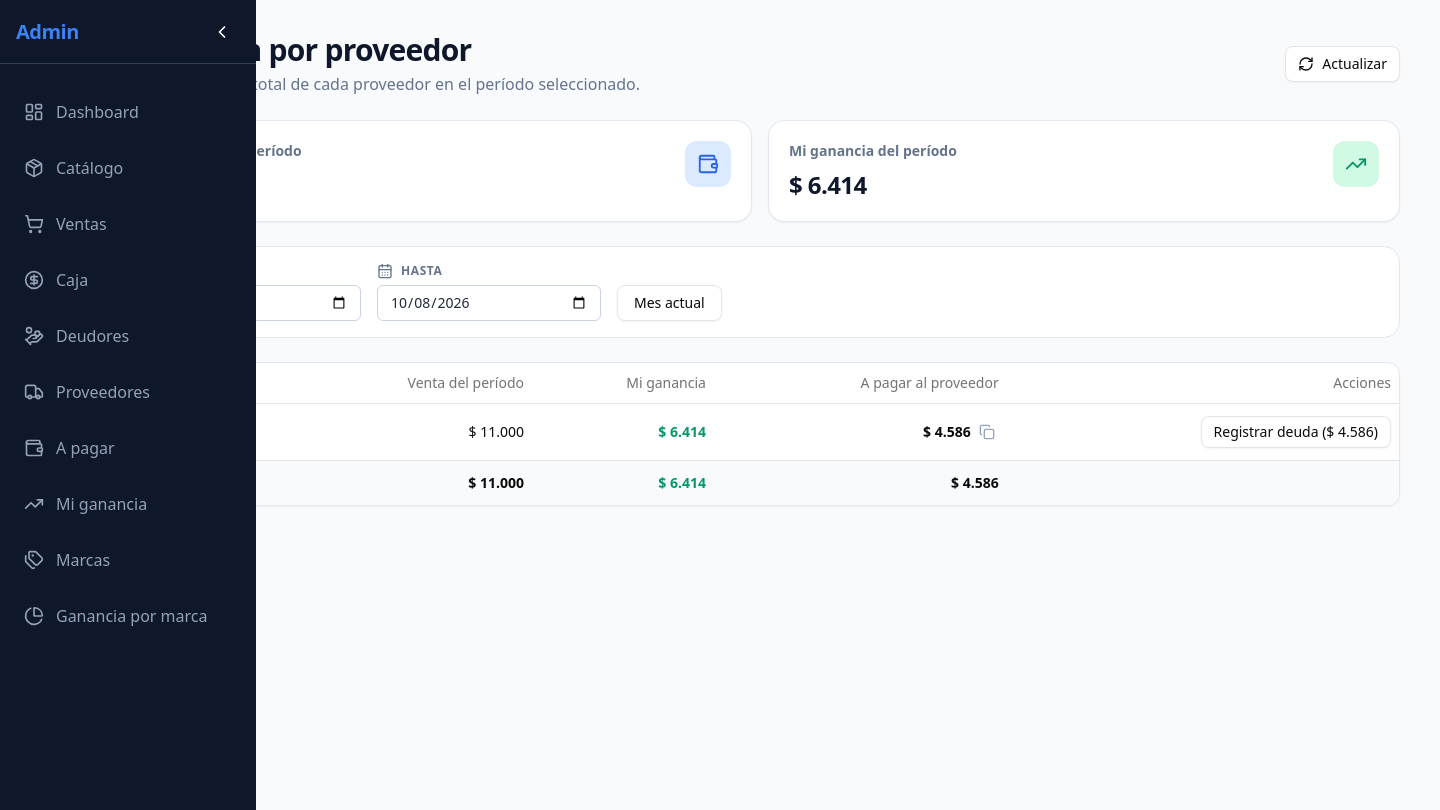
it: SupplierProfitPage — redondeo del monto a pagar › el modal precarga el monto ya redondeado a 2 decimales
The width and height of the screenshot is (1440, 810).
Click the button "Registrar deuda ($ 4.586)". click: (1296, 432)
box: [1200, 416, 1391, 448]
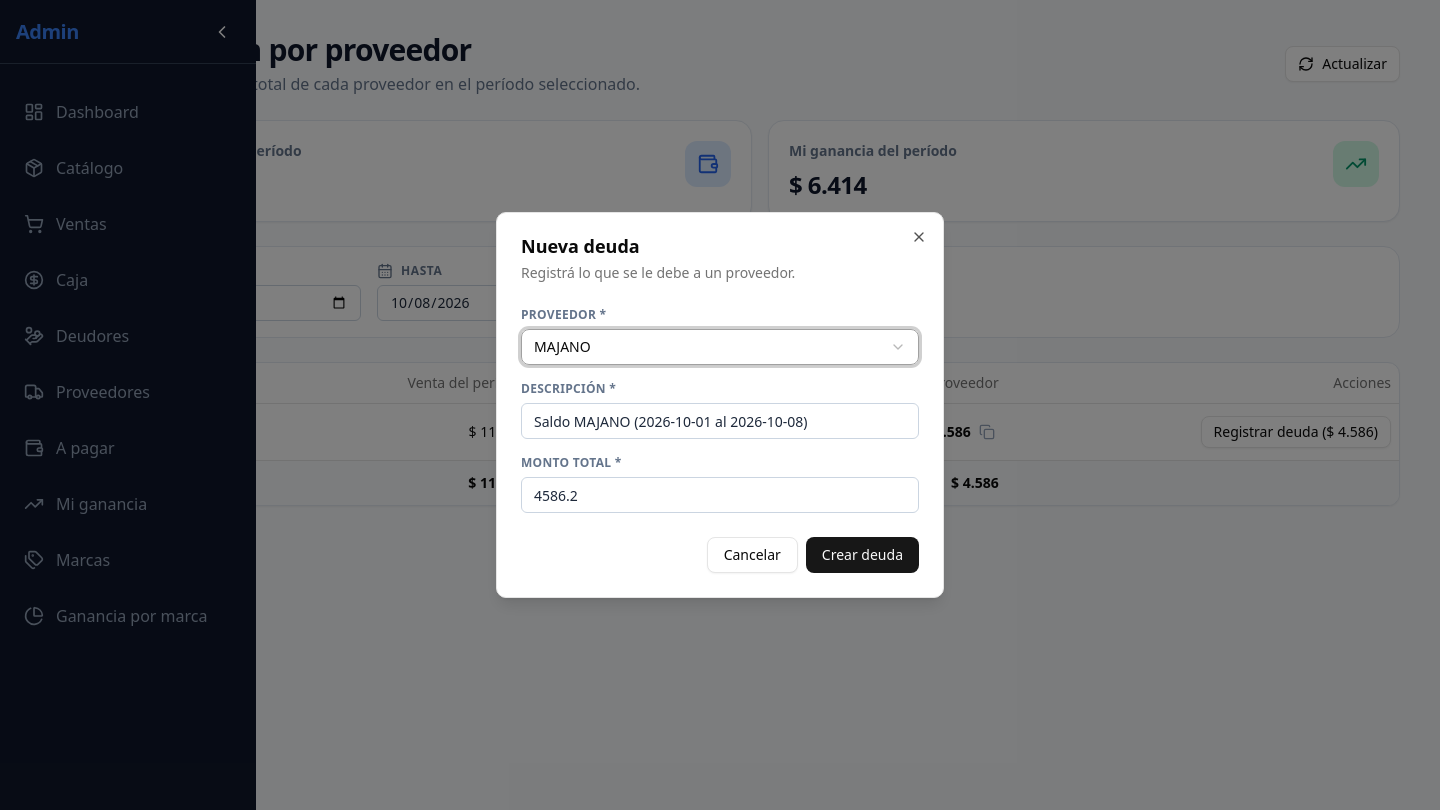
Expected: the number field with placeholder "Ej: 50000" holds "4586.2", [521, 477, 919, 513]
